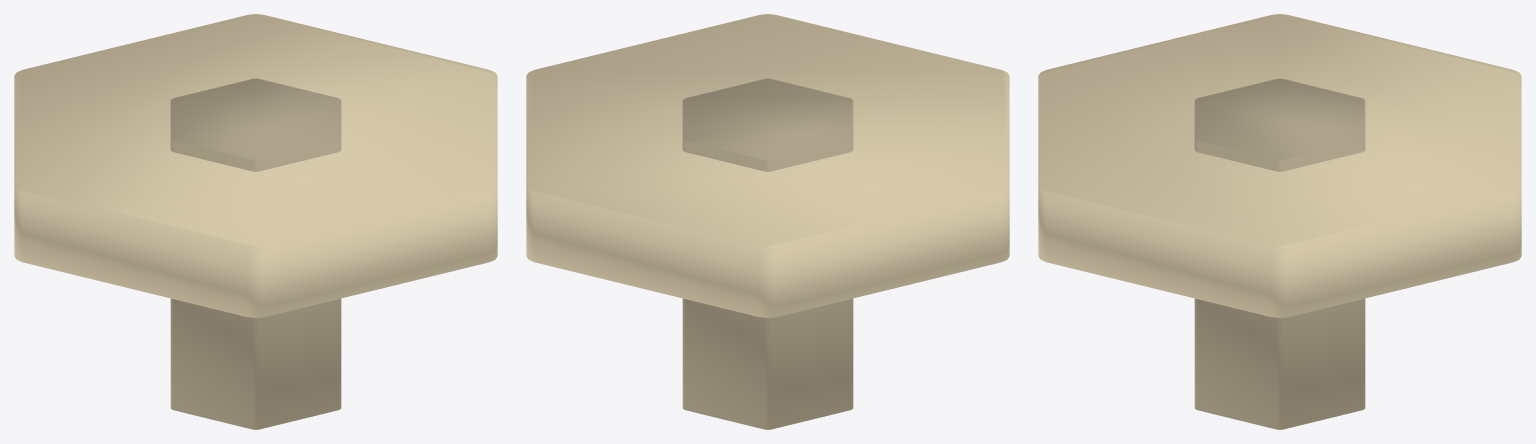
File: sandstormouter.glb
The picture shows the model from 3 angles, left to right: view 1: azimuth 30°, elevation 25°; view 2: azimuth 150°, elevation 25°; view 3: azimuth 270°, elevation 25°; orthographic projection.
Parts seen in each view (by area): view 1: Circle.014; view 2: Circle.014; view 3: Circle.014.
Part boxes in pixels (x1,y1,x2,y2): Circle.014: (14, 14, 497, 429); Circle.014: (526, 14, 1009, 429); Circle.014: (1038, 14, 1521, 429).
Bounding box in the file's own units: 7.75 × 4.16 × 6.78.
1 material, 1 textured.
